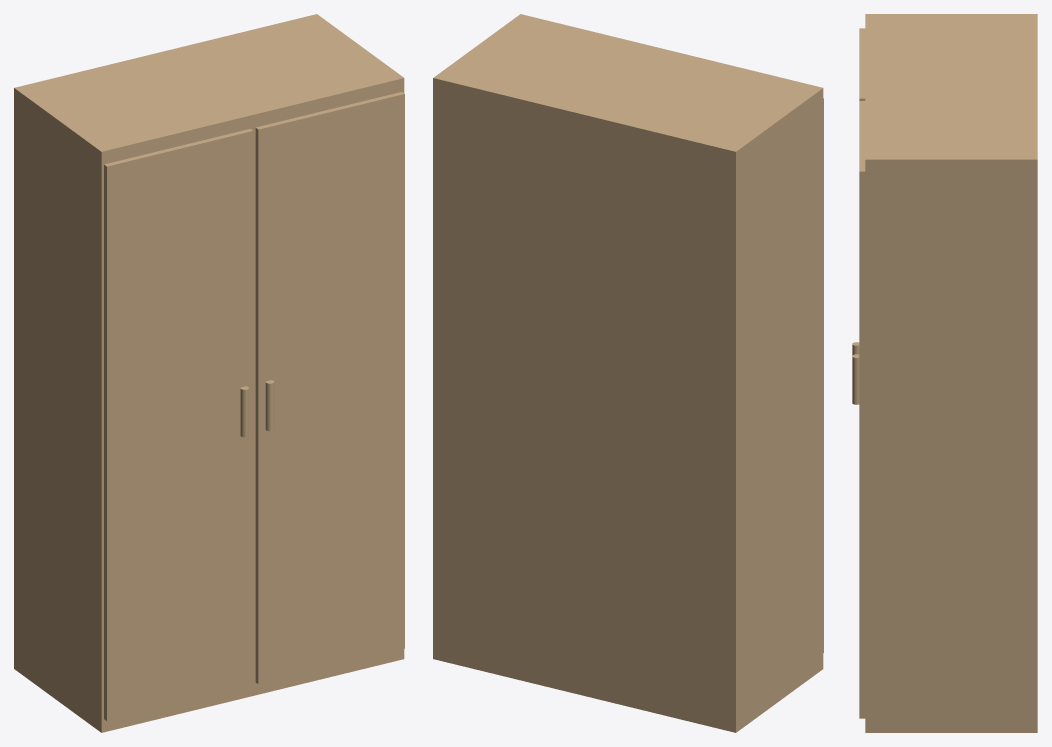
The model's file is fu_wardrobe.glb.
3 views of the same model, side by side, from view 1: azimuth 30°, elevation 25°; view 2: azimuth 150°, elevation 25°; view 3: azimuth 270°, elevation 25° (orthographic).
Visible parts, largest first — view 1: fu_wardrobe; view 2: fu_wardrobe; view 3: fu_wardrobe.
Boxes of the visible parts, x1,y1,x2,y2 form: fu_wardrobe: (14, 14, 404, 732); fu_wardrobe: (433, 14, 823, 732); fu_wardrobe: (852, 14, 1037, 732).
Size of the model in its own units: 1.2 by 2.2 by 0.645.
